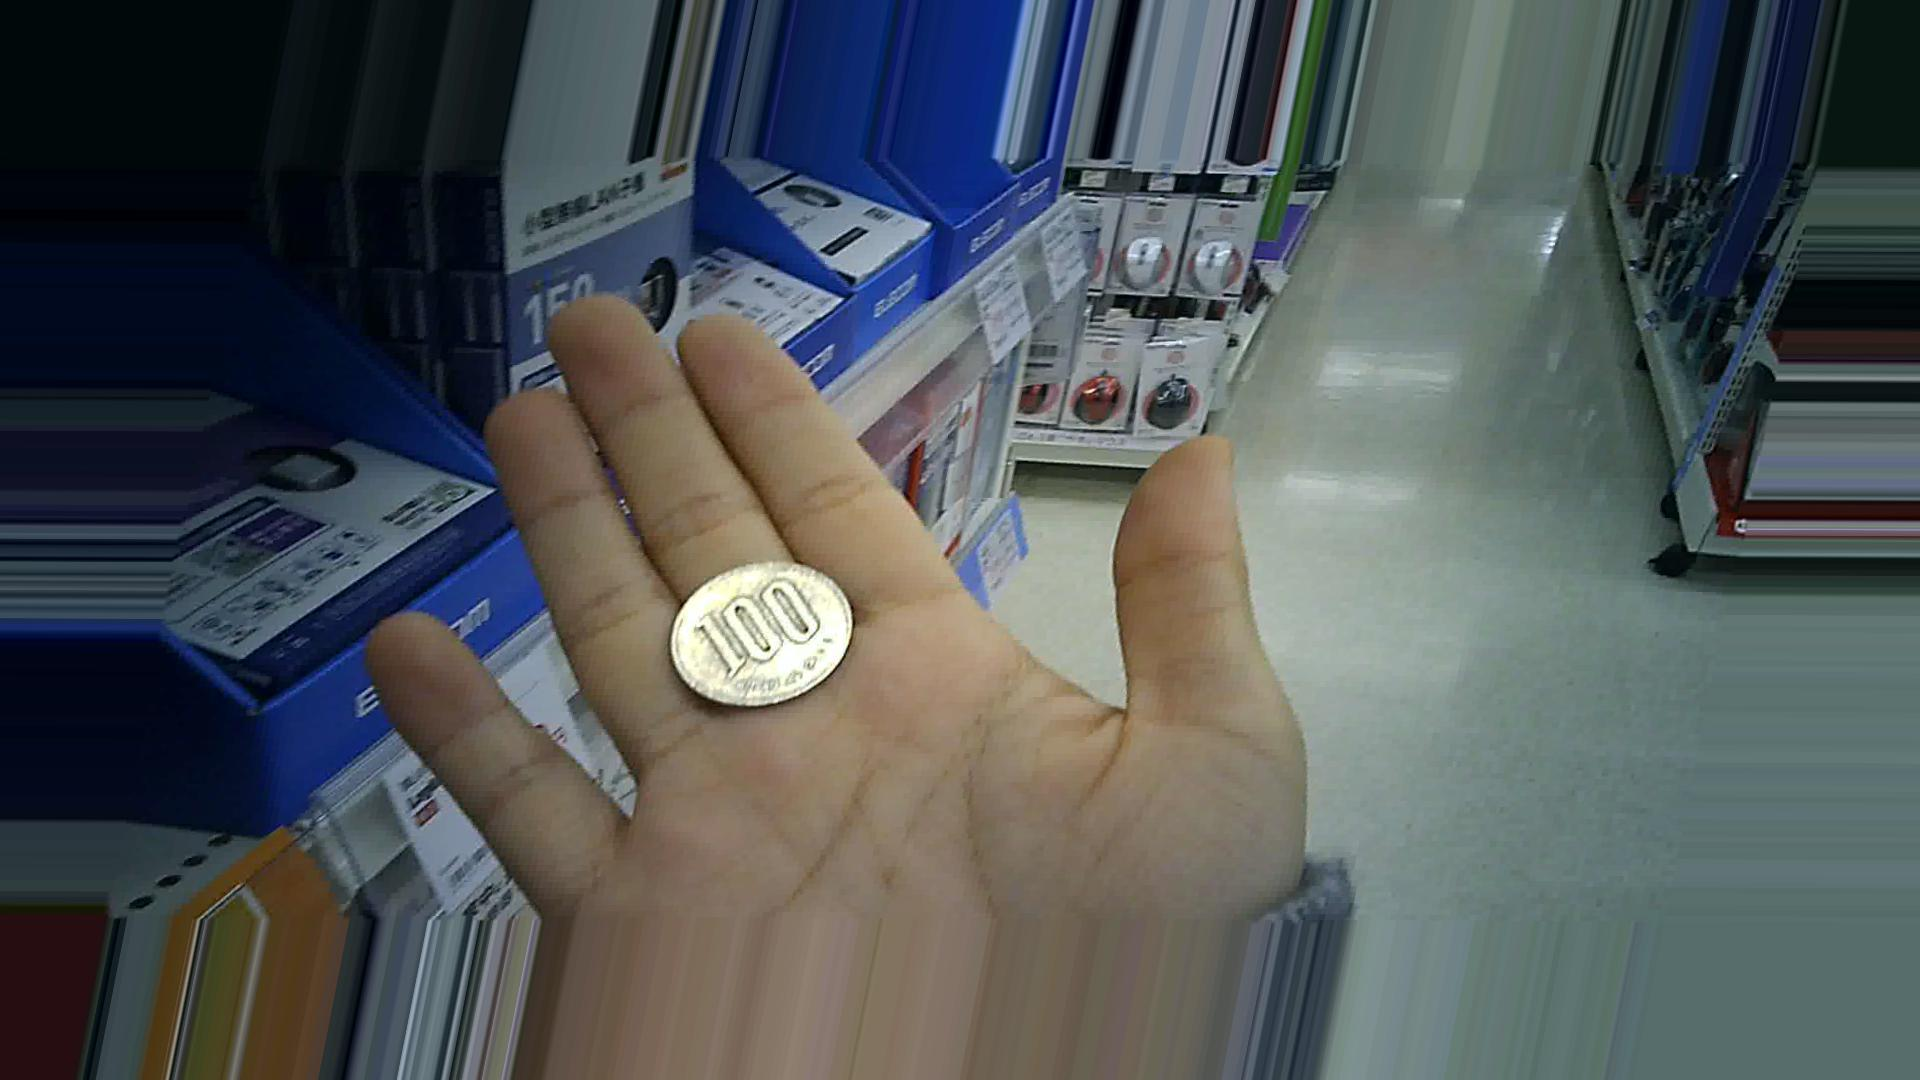100 Yen: (661, 558, 857, 724)
